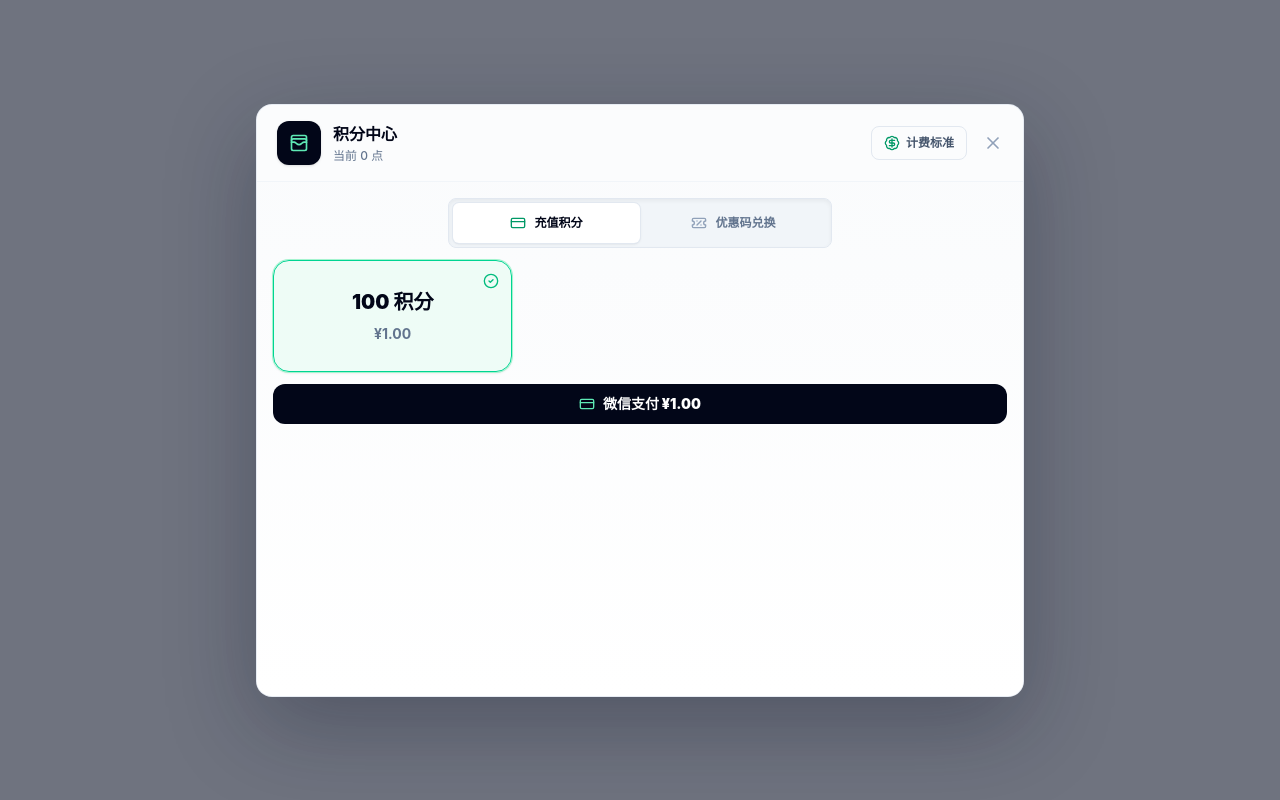
Test: RechargeModal › loads packages immediately and switches to coupon redemption
The width and height of the screenshot is (1280, 800).
Click the button "优惠码兑换".
click(734, 222)  # box [640,202,827,242]
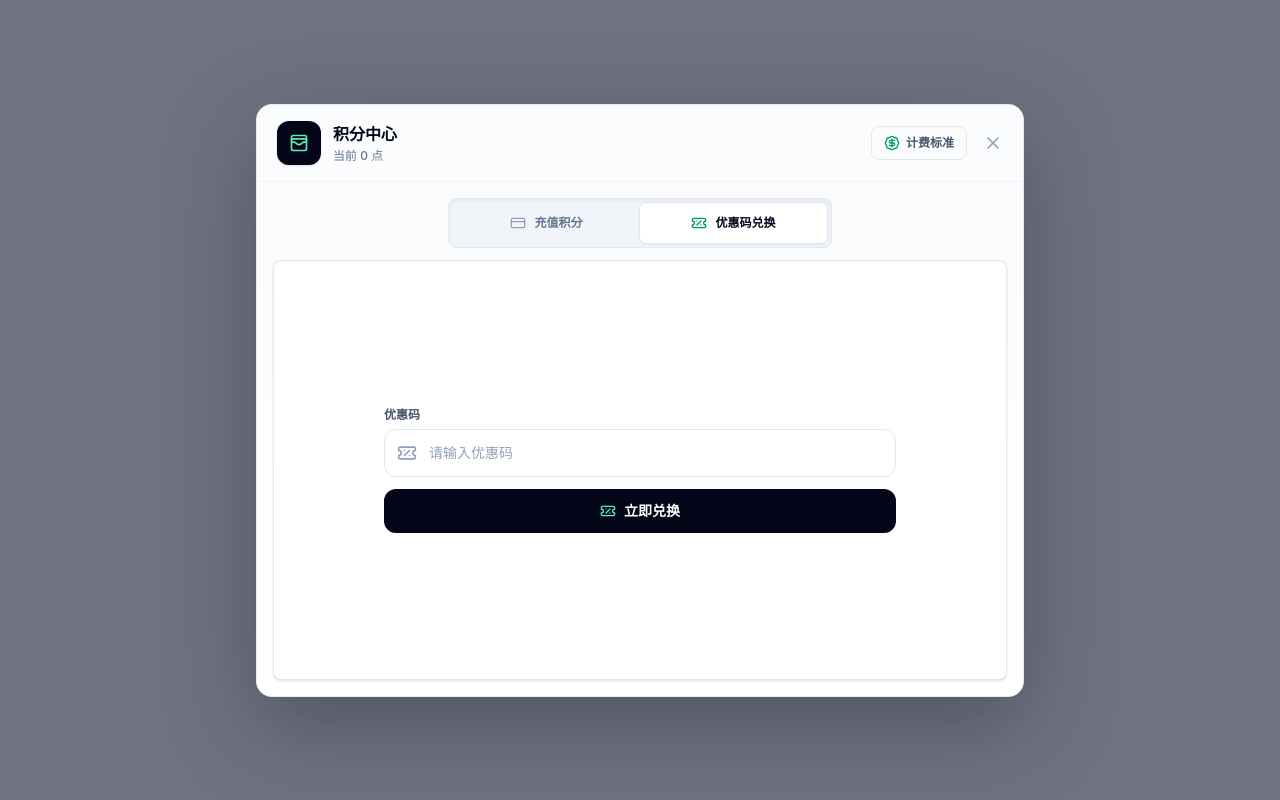
Check: the text "立即兑换" is shown, box [384,488,896,532]
